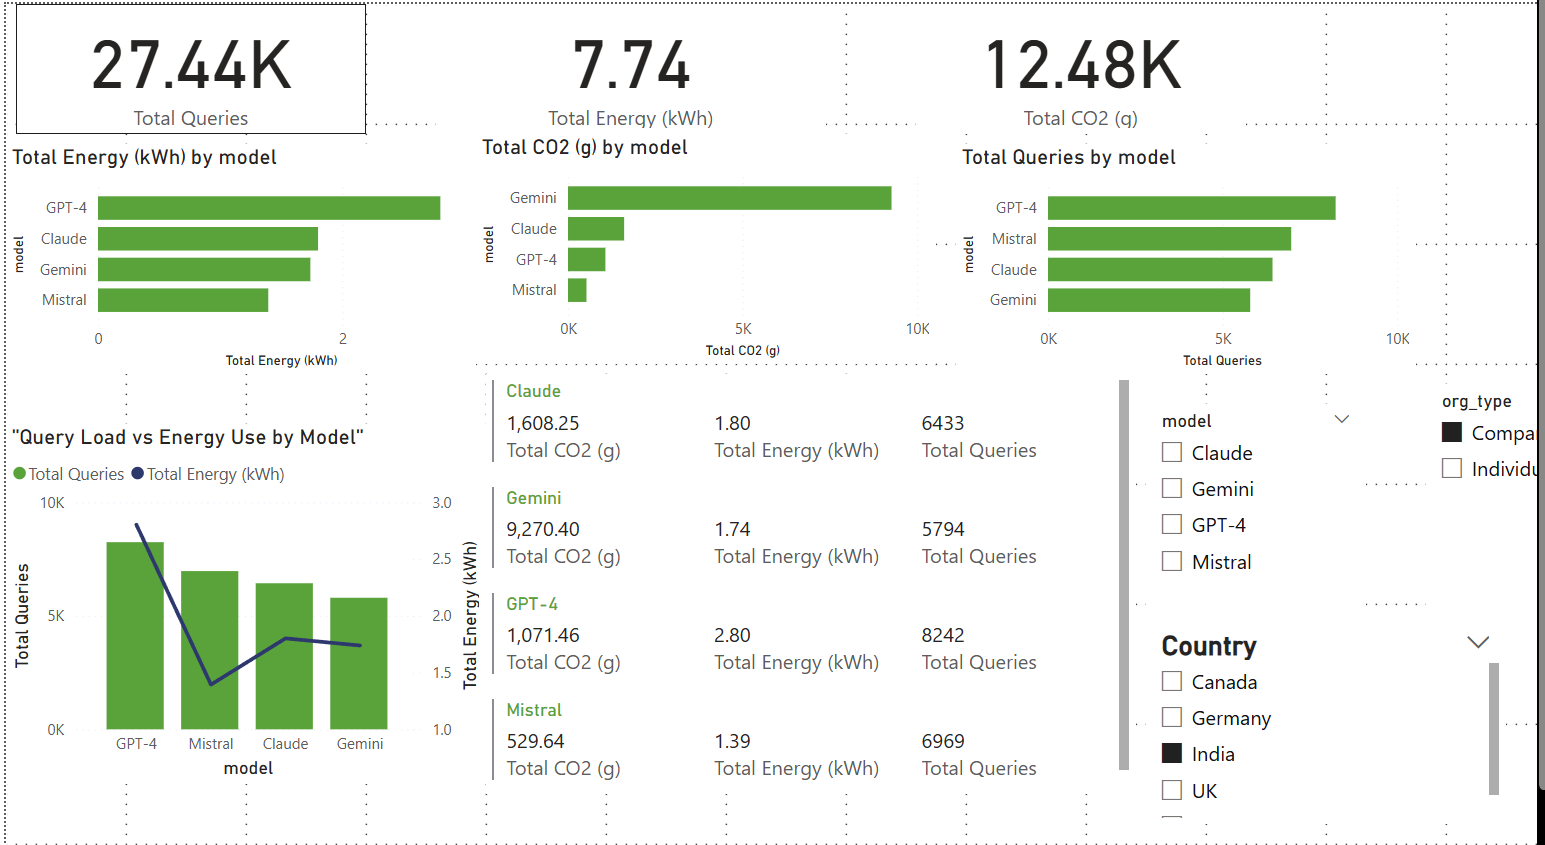

The dashboard page shown, as its layout file describes it:
{"tool":"powerbi","page":{"name":"Page 1","canvas":[1280,720],"ordinal":0},"visuals":[{"type":"card","fields":{"Values":["Usage.Total Queries"]},"box":[8,0,280,104],"z":0},{"type":"card","fields":{"Values":["Usage.Total Energy (kWh)"]},"box":[344,0,312,104],"z":1000},{"type":"card","fields":{"Values":["Usage.Total CO2 (g)"]},"box":[728,0,264,104],"z":2000},{"type":"clusteredBarChart","fields":{"Category":["Usage.model"],"Y":["Usage.Total Energy (kWh)"]},"box":[0,112,376,184],"z":3000},{"type":"clusteredBarChart","fields":{"Category":["Usage.model"],"Y":["Usage.Total CO2 (g)"]},"box":[376,104,368,184],"z":4000},{"type":"clusteredBarChart","fields":{"Category":["Usage.model"],"Y":["Usage.Total Queries"]},"box":[760,112,368,184],"z":5000},{"type":"lineClusteredColumnComboChart","title":"\"Query Load vs Energy Use by Model\"","fields":{"Category":["Usage.model"],"Y":["Usage.Total Queries"],"Y2":["Usage.Total Energy (kWh)"]},"box":[0,336,384,288],"z":5001},{"type":"multiRowCard","fields":{"Values":["Usage.model","Usage.Total CO2 (g)","Usage.Total Energy (kWh)","Usage.Total Queries"]},"box":[384,296,520,336],"z":5002},{"type":"slicer","fields":{"Values":["Usage.model"]},"box":[912,320,176,176],"z":5003},{"type":"slicer","fields":{"Values":["Users.country"]},"box":[912,496,288,160],"z":5006},{"type":"slicer","fields":{"Values":["Users.org_type"]},"box":[1136,304,128,192],"z":5007}]}

Visuals, with their boxes in screenshot pixels (x1, y1, x2, y2), scaled from the page's 1280x720 canvas onto the 1545x845 screenshot:
card - Usage.Total Queries: l=10, t=0, r=348, b=122
card - Usage.Total Energy (kWh): l=415, t=0, r=792, b=122
card - Usage.Total CO2 (g): l=879, t=0, r=1197, b=122
clusteredBarChart - Usage.model x Usage.Total Energy (kWh): l=0, t=131, r=454, b=347
clusteredBarChart - Usage.model x Usage.Total CO2 (g): l=454, t=122, r=898, b=338
clusteredBarChart - Usage.model x Usage.Total Queries: l=917, t=131, r=1362, b=347
""Query Load vs Energy Use by Model"" lineClusteredColumnComboChart: l=0, t=394, r=464, b=732
multiRowCard - Usage.model x Usage.Total CO2 (g): l=464, t=347, r=1091, b=742
slicer - Usage.model: l=1101, t=376, r=1313, b=582
slicer - Users.country: l=1101, t=582, r=1448, b=770
slicer - Users.org_type: l=1371, t=357, r=1526, b=582
